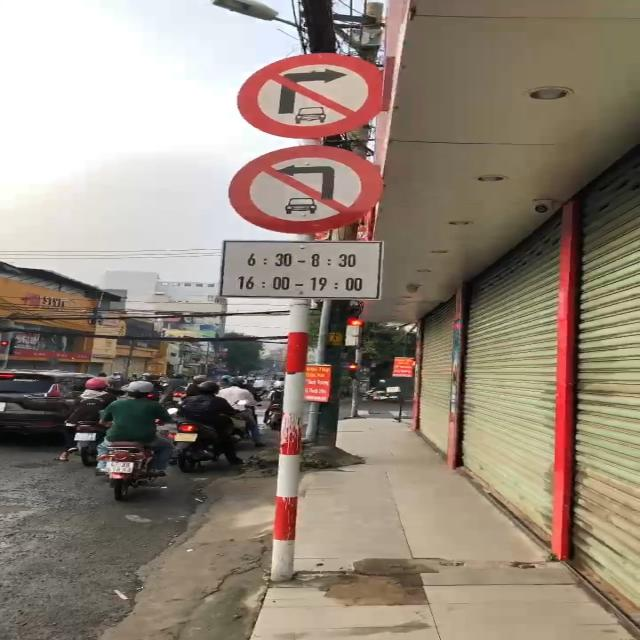Bien bao cam xe o to re phai: (234, 40, 392, 141)
Bien bao cam xe o to re trai: (223, 140, 383, 244)
